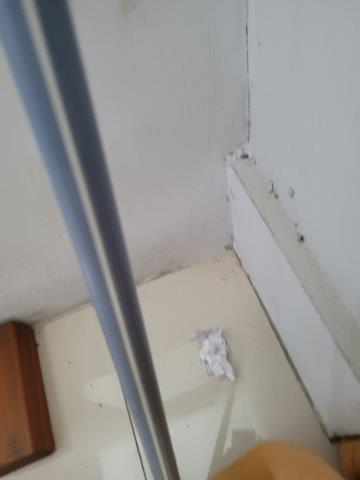kertas: (193, 329, 233, 381)
